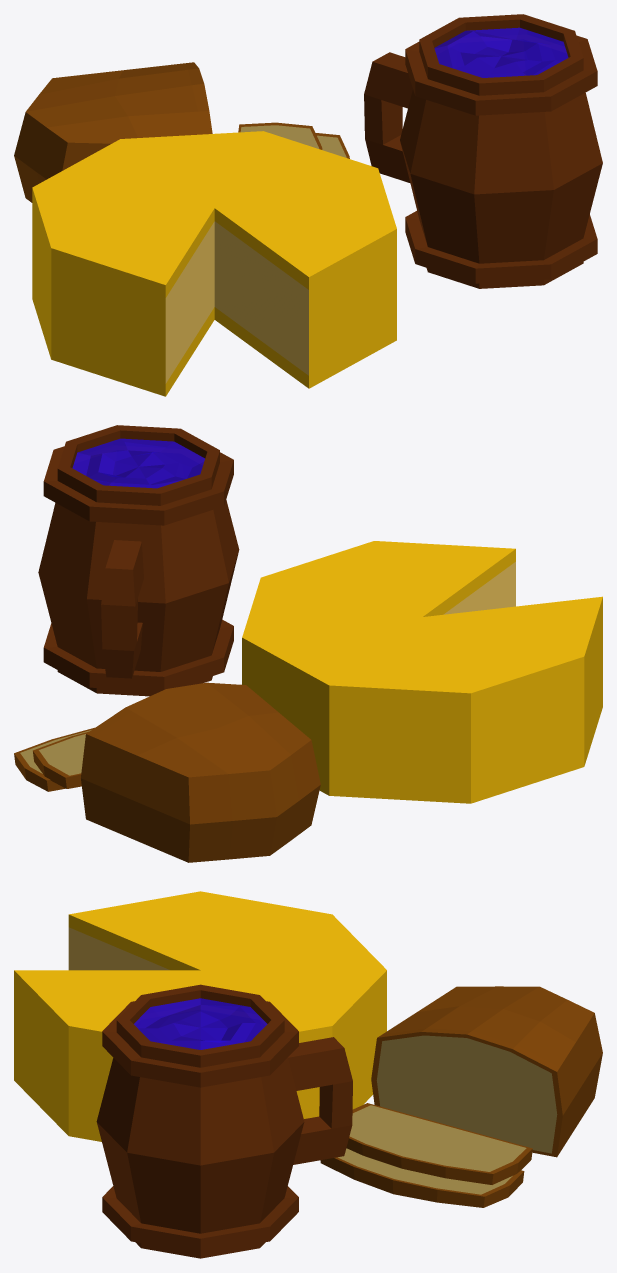
Rendered from food.fbx.
The picture shows the model from 3 angles, top to bottom: view 1: azimuth 30°, elevation 25°; view 2: azimuth 150°, elevation 25°; view 3: azimuth 270°, elevation 25°; orthographic projection.
Parts seen in each view (by area): view 1: Food; view 2: Food; view 3: Food.
Part boxes in pixels (x1,y1,x2,y2): Food: (14, 14, 602, 396); Food: (14, 425, 602, 862); Food: (14, 891, 602, 1258).
Bounding box in the file's own units: 331 × 120 × 316.
